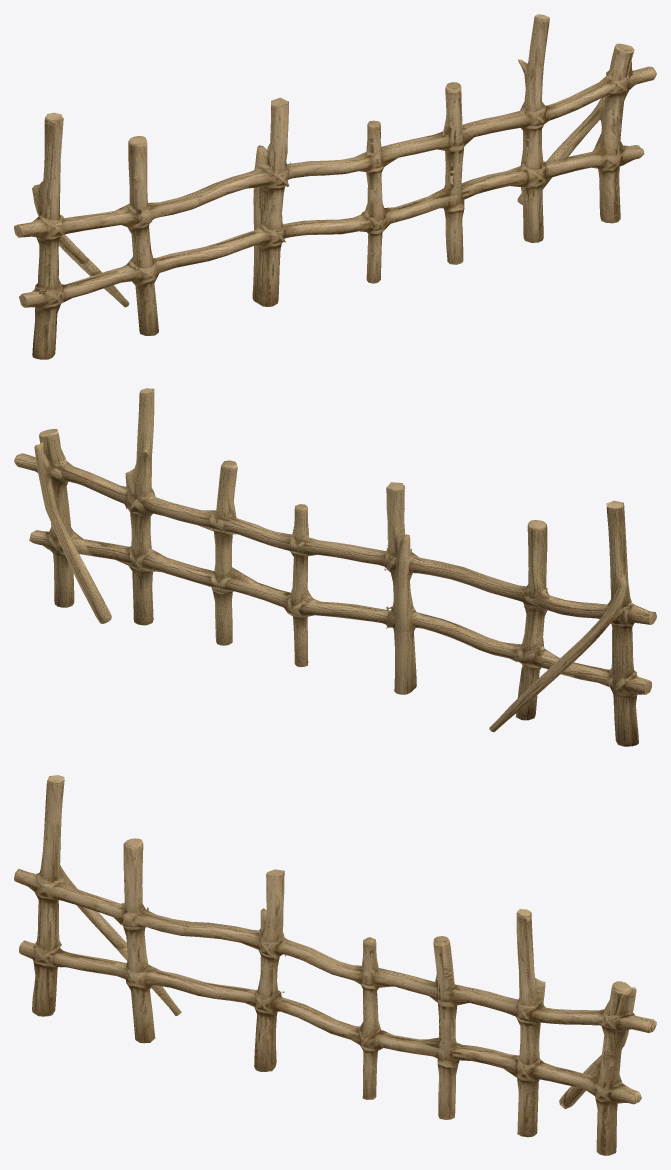
The model's file is fence1.glb.
The picture shows the model from 3 angles, top to bottom: view 1: azimuth 30°, elevation 25°; view 2: azimuth 150°, elevation 25°; view 3: azimuth 330°, elevation 25°; orthographic projection.
Parts seen in each view (by area): view 1: Mesh_0; view 2: Mesh_0; view 3: Mesh_0.
Boxes of the visible parts, box(x1,y1,x2,y2) form: Mesh_0: box(14, 14, 656, 359); Mesh_0: box(14, 388, 656, 746); Mesh_0: box(14, 775, 656, 1155).
Bounding box in the file's own units: 1.91 × 0.6878 × 0.2106.
Materials: 1 (1 with a texture image).
